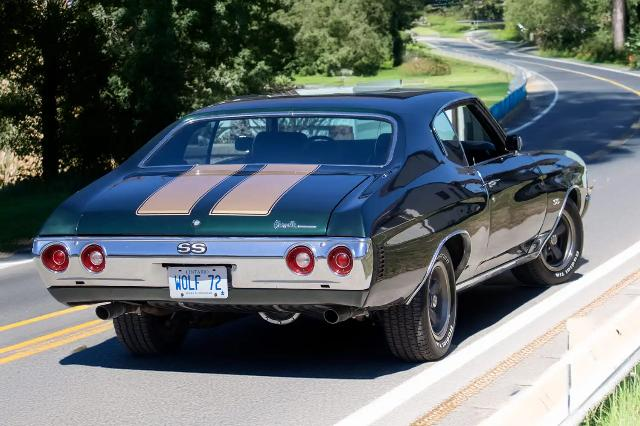chevelle-1972: (32, 89, 592, 362)
